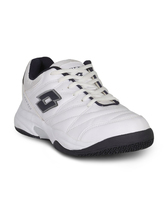shoes: (12, 55, 158, 158)
